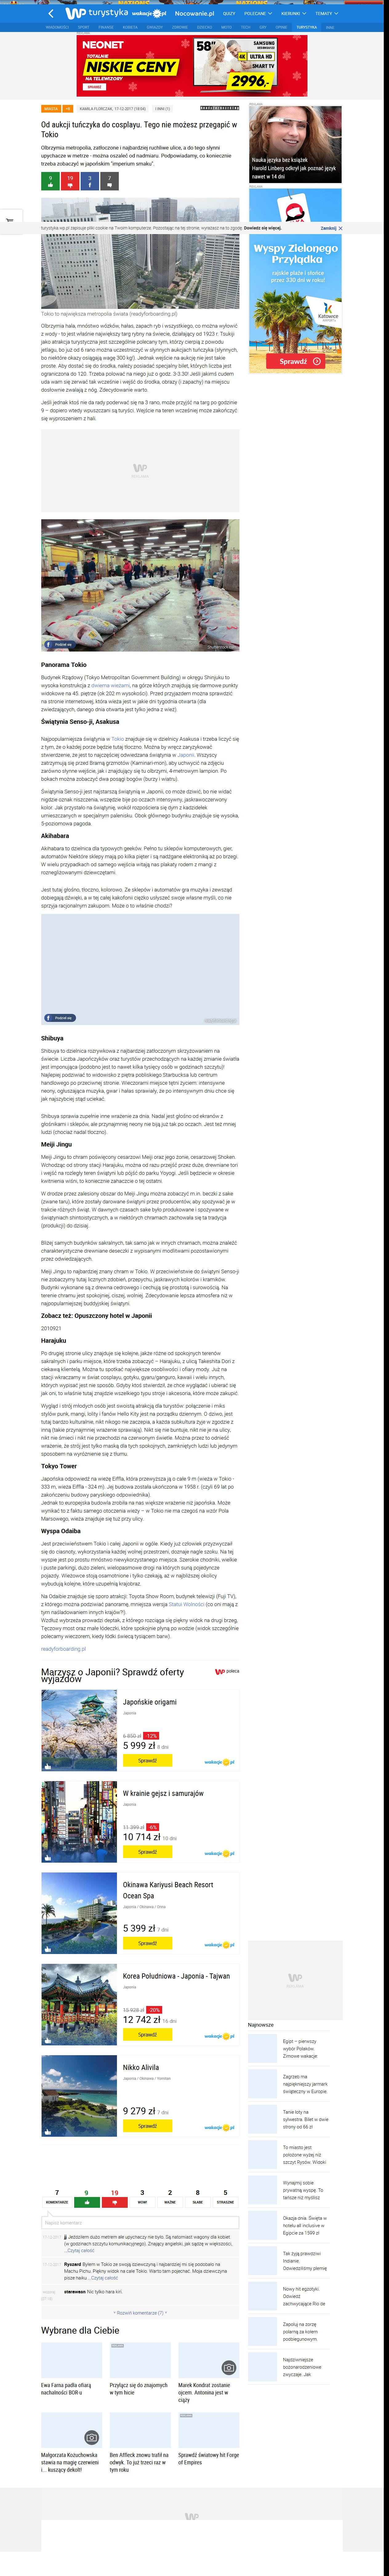title: (41, 120, 238, 138)
